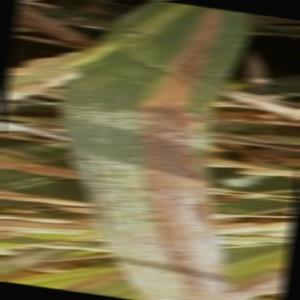Leaf_Blast: (82, 4, 222, 271)
